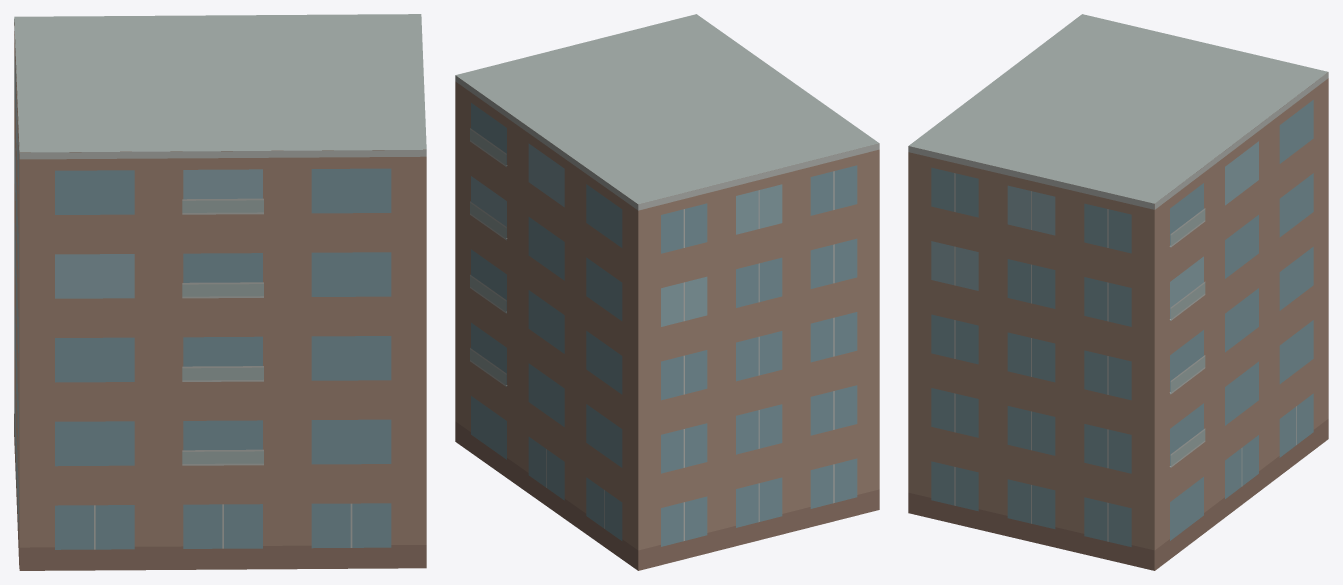
Rendered from survey-upis-32654508.glb.
The picture shows the model from 3 angles, left to right: view 1: azimuth 30°, elevation 25°; view 2: azimuth 150°, elevation 25°; view 3: azimuth 270°, elevation 25°; orthographic projection. The views are drawn at different scales.
Visible parts, largest first — view 1: survey-upis-32654508.tmp; view 2: survey-upis-32654508.tmp; view 3: survey-upis-32654508.tmp.
Part boxes in pixels (x1,y1,x2,y2): survey-upis-32654508.tmp: (14,14,426,570); survey-upis-32654508.tmp: (455,14,879,570); survey-upis-32654508.tmp: (908,14,1328,570).
Size of the model in its own units: 16.14 by 14.55 by 15.1.
